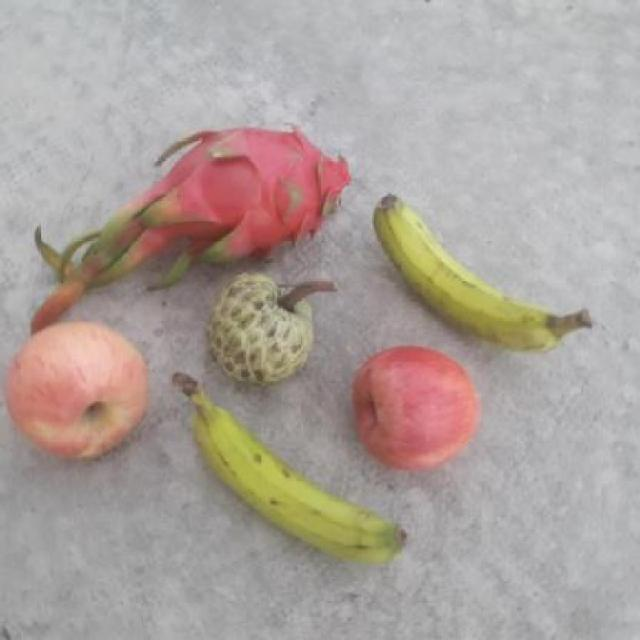apple: (3, 320, 155, 462), (346, 347, 482, 476)
banana: (169, 372, 426, 566), (372, 192, 597, 355)
dragon fruit: (134, 123, 360, 274)
sugar apple: (200, 269, 329, 389)
